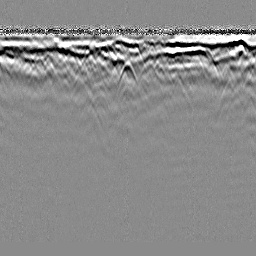cavity: (117, 58, 138, 85)
